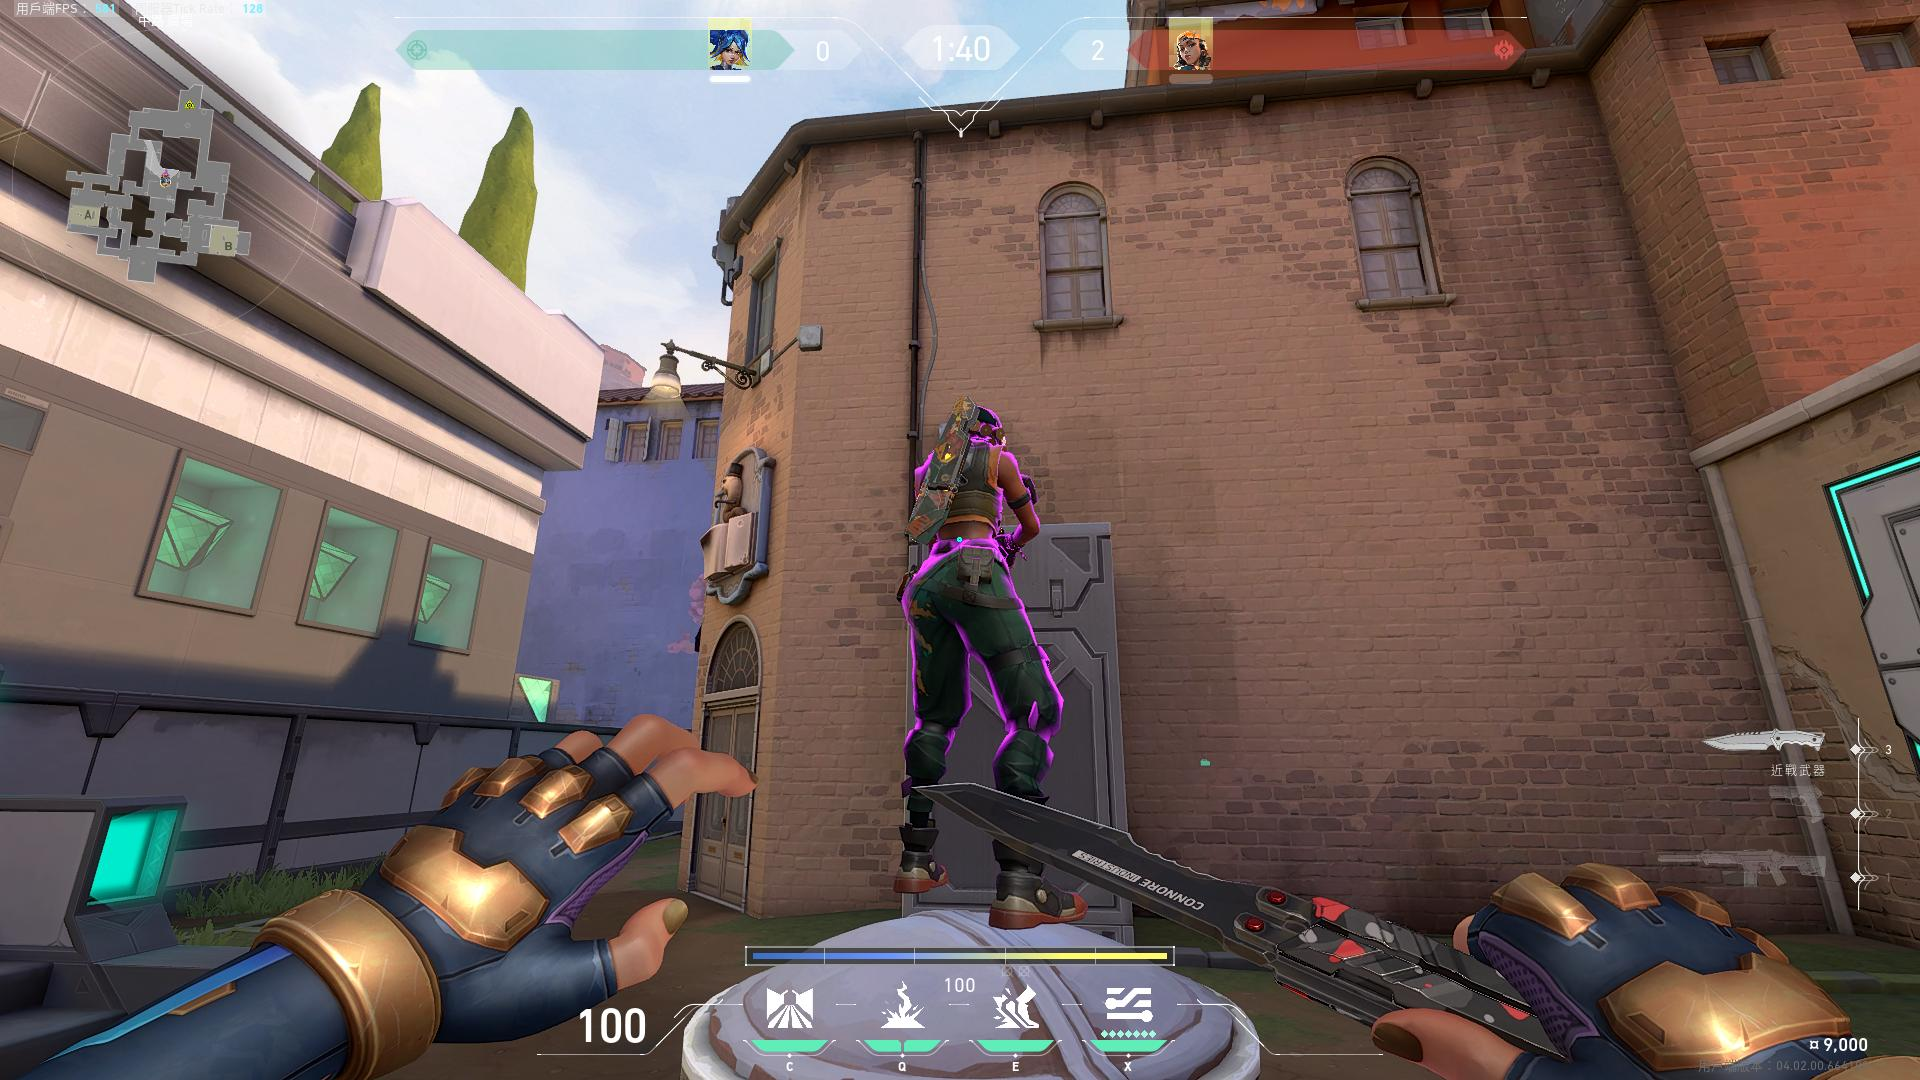enemyBody: (943, 465, 994, 549)
enemyHead: (973, 411, 1004, 452)
